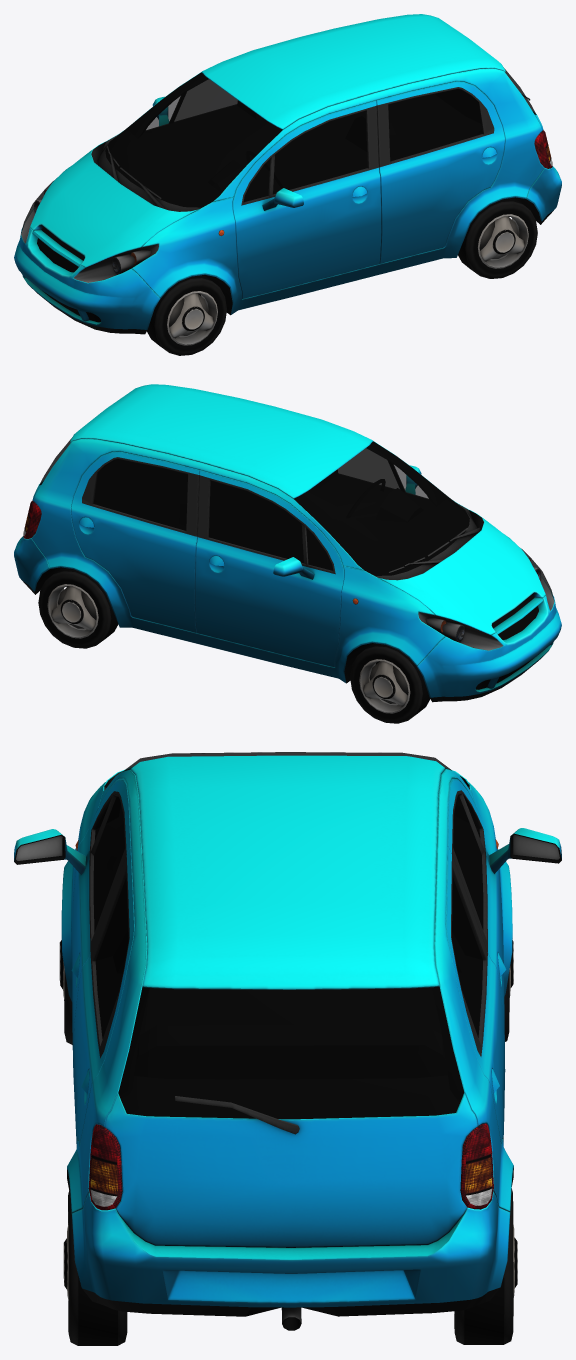
Rendered from mini.glb.
3 views of the same model, one above another, from view 1: azimuth 30°, elevation 25°; view 2: azimuth 150°, elevation 25°; view 3: azimuth 270°, elevation 25° (orthographic). The views are drawn at different scales.
Parts seen in each view (by area): view 1: Compact Body, Wheel_C, Wheel_C001; view 2: Compact Body, Wheel_C003, Wheel_C002; view 3: Compact Body, Wheel_C001, Wheel_C002.
Part boxes in pixels (box(x1,y1,x2,y2)): Compact Body: box(14, 14, 561, 334); Wheel_C: box(147, 275, 226, 355); Wheel_C001: box(458, 197, 537, 278); Compact Body: box(14, 384, 561, 702); Wheel_C003: box(350, 643, 430, 723); Wheel_C002: box(38, 567, 118, 648); Compact Body: box(14, 752, 561, 1330); Wheel_C001: box(63, 1188, 127, 1345); Wheel_C002: box(454, 1188, 517, 1344).
Bounding box in the file's own units: 3.8 × 1.54 × 1.88.
4 materials, 3 textured.
